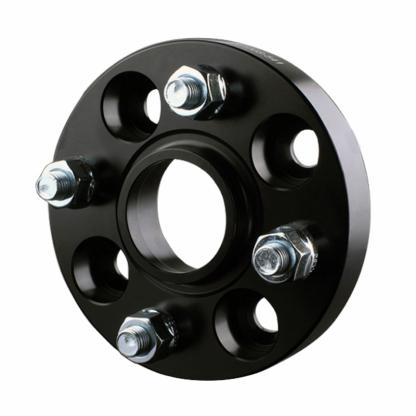FOD: (42, 36, 378, 384)
